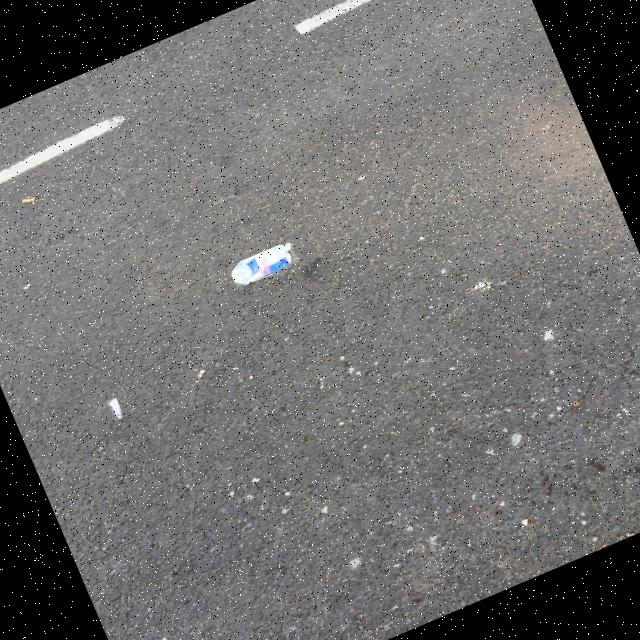Drink can: (233, 243, 293, 284)
Unlabeled litter: (108, 398, 121, 418)
